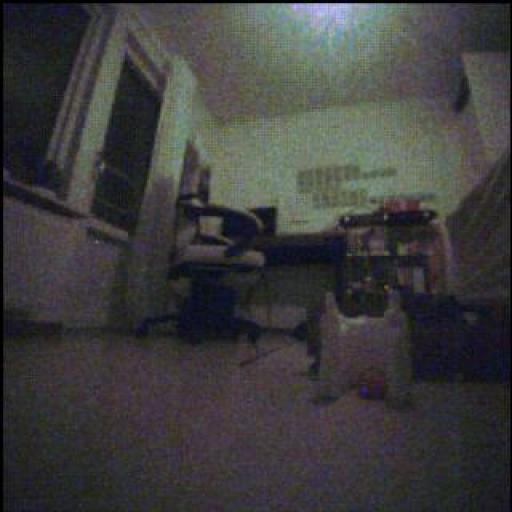basket: (360, 369, 389, 401)
